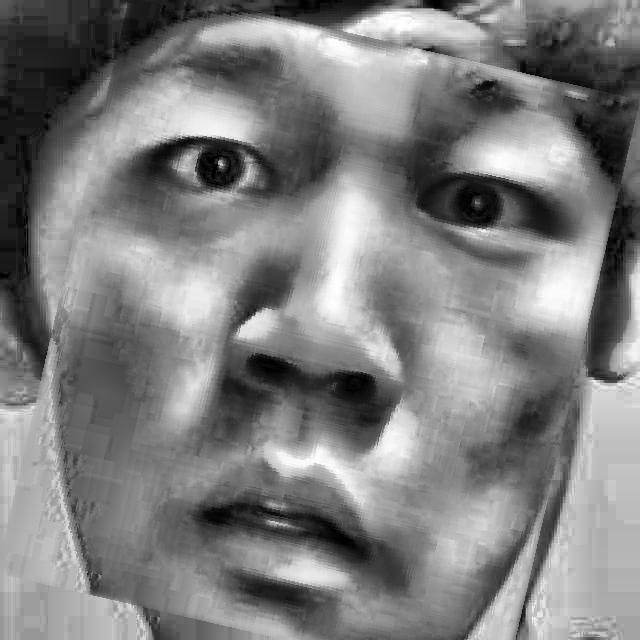fear: (26, 7, 608, 640)
